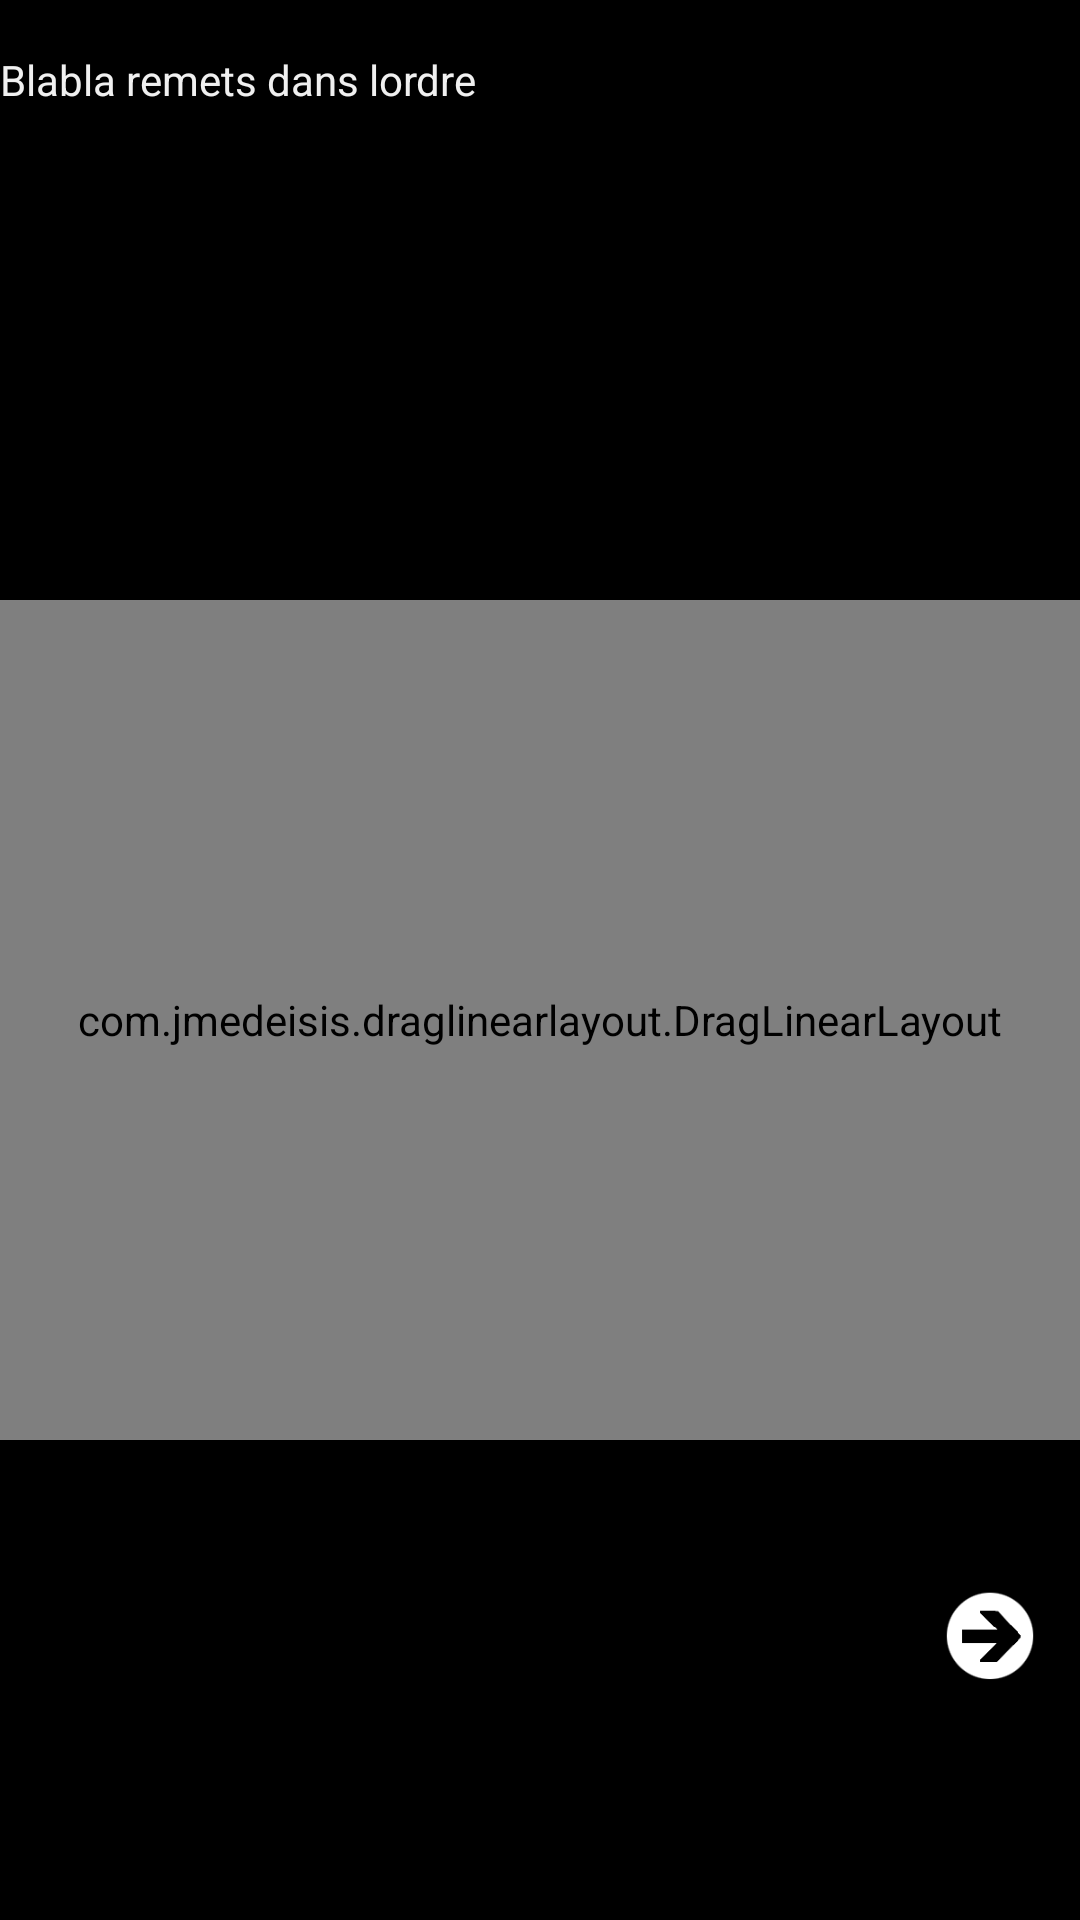

Icon click points for this 1080x1920 phone screenshot, format (x=x, y=y):
bouton fleche droite: (x=990, y=1635)
